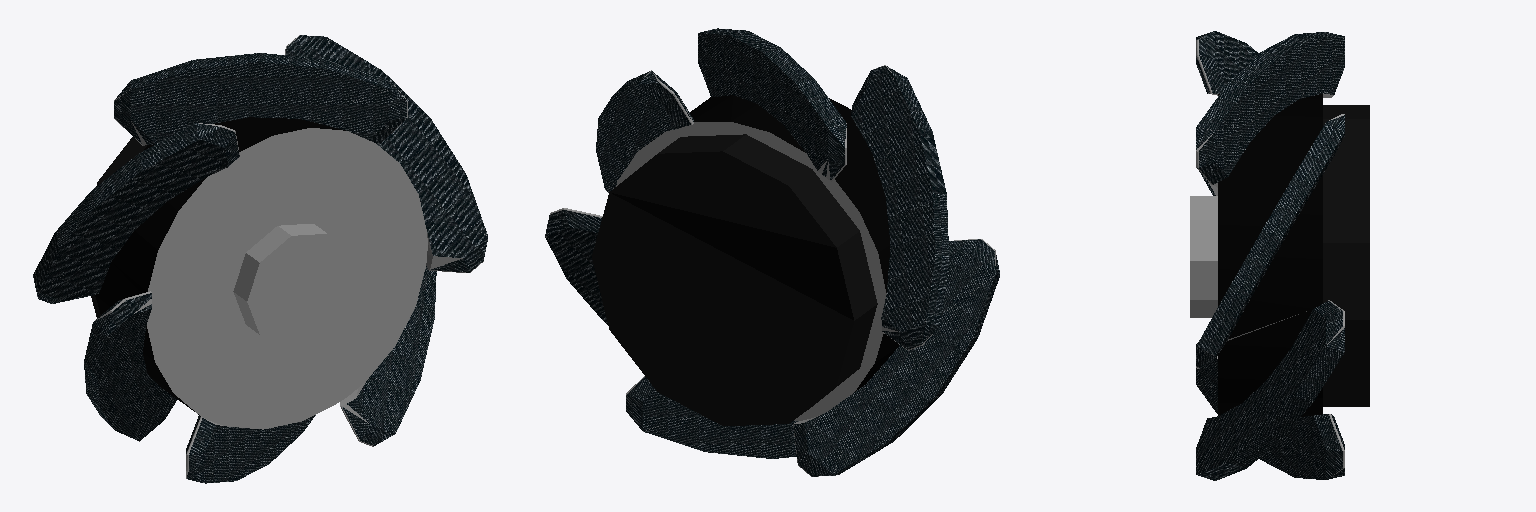
3 views of the same model, side by side, from view 1: azimuth 30°, elevation 25°; view 2: azimuth 150°, elevation 25°; view 3: azimuth 270°, elevation 25° (orthographic).
Visible parts, largest first — view 1: ソリッド2; view 2: ソリッド2; view 3: ソリッド2.
Part boxes in pixels (left/top/right/bottom): ソリッド2: left=33, top=35, right=487, bottom=483; ソリッド2: left=545, top=28, right=999, bottom=476; ソリッド2: left=1190, top=31, right=1369, bottom=480.
Size of the model in its own units: 0.1457 by 0.144 by 0.058.
Materials: 4 (1 with a texture image).